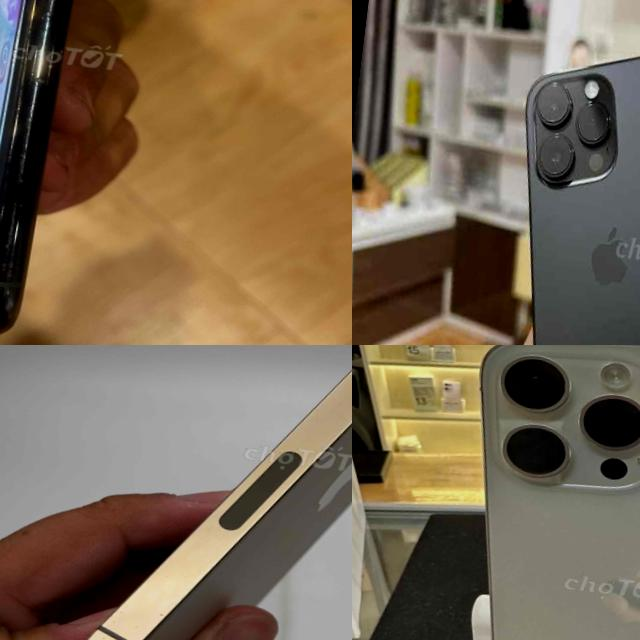scratch: (0, 2, 80, 190), (0, 198, 45, 305)
